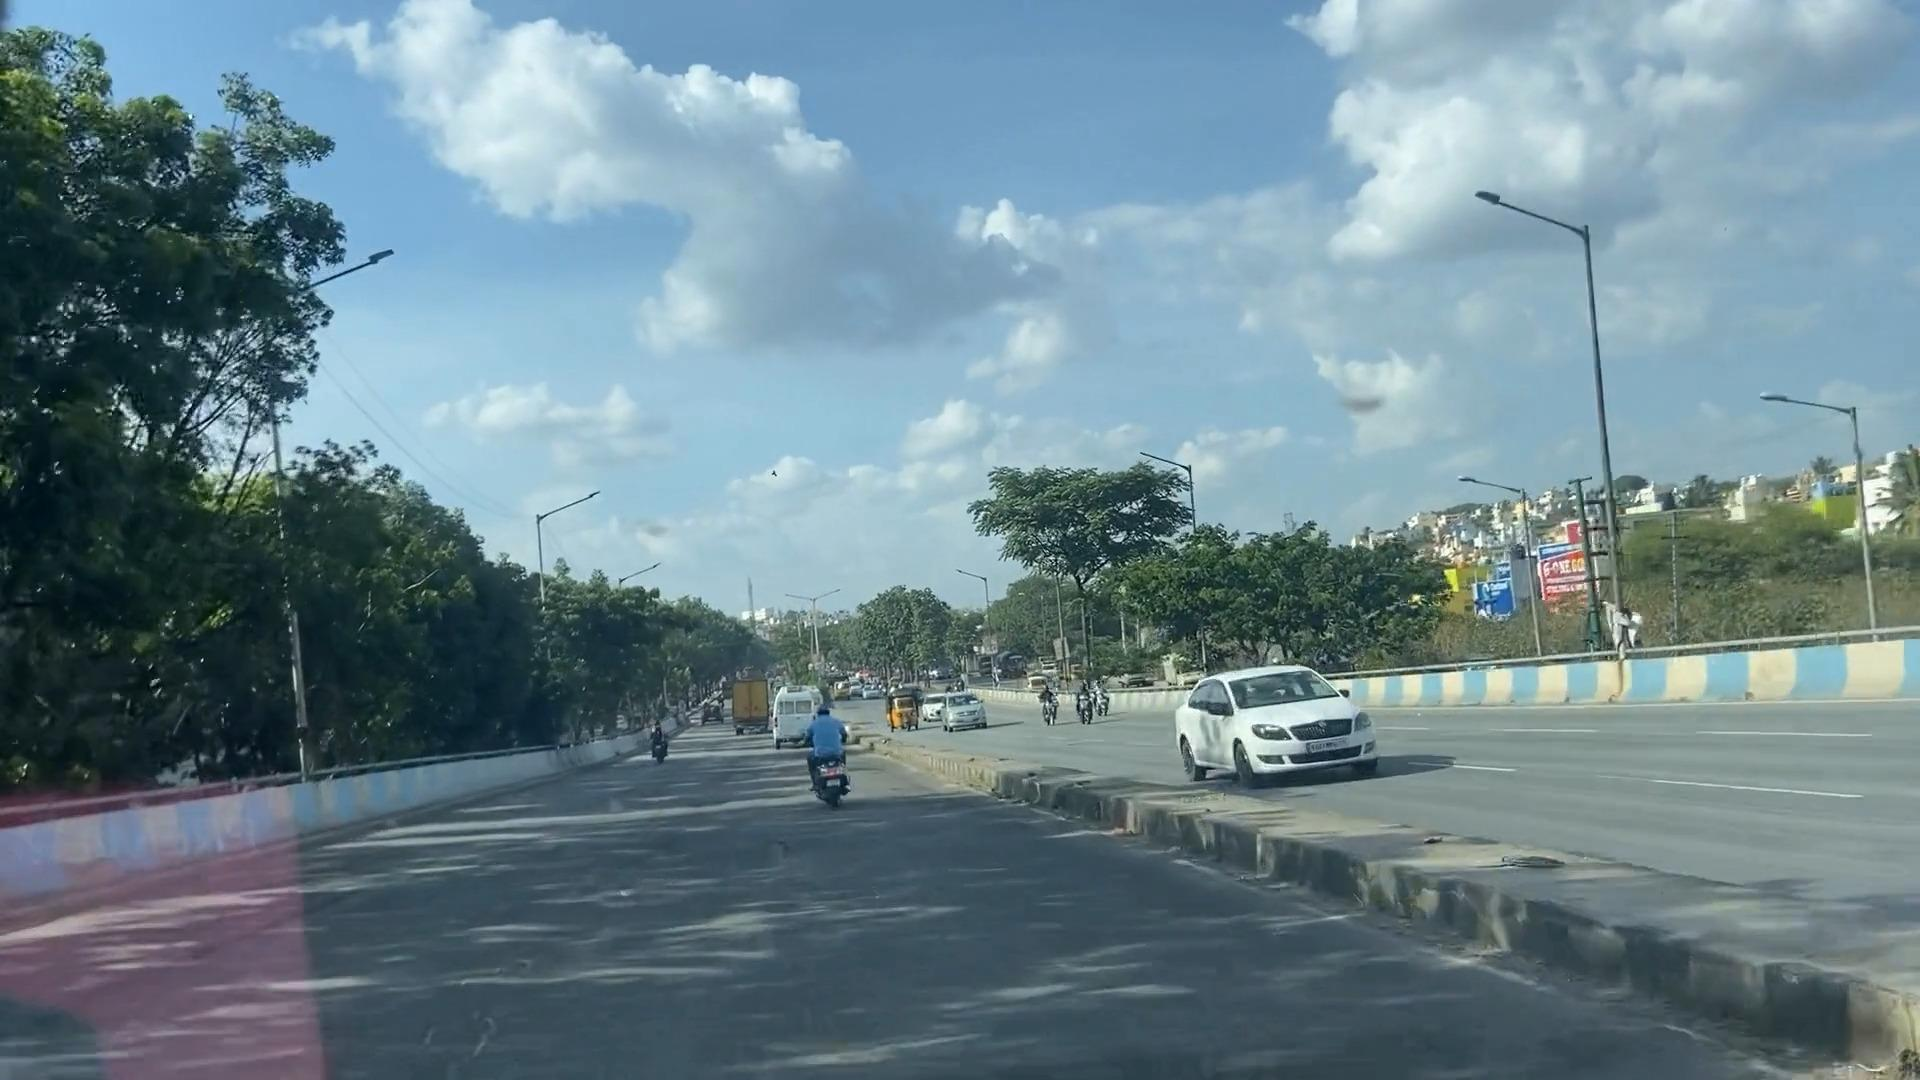LMV: (790, 670, 852, 819)
RoadDamages: (398, 869, 691, 1080)
